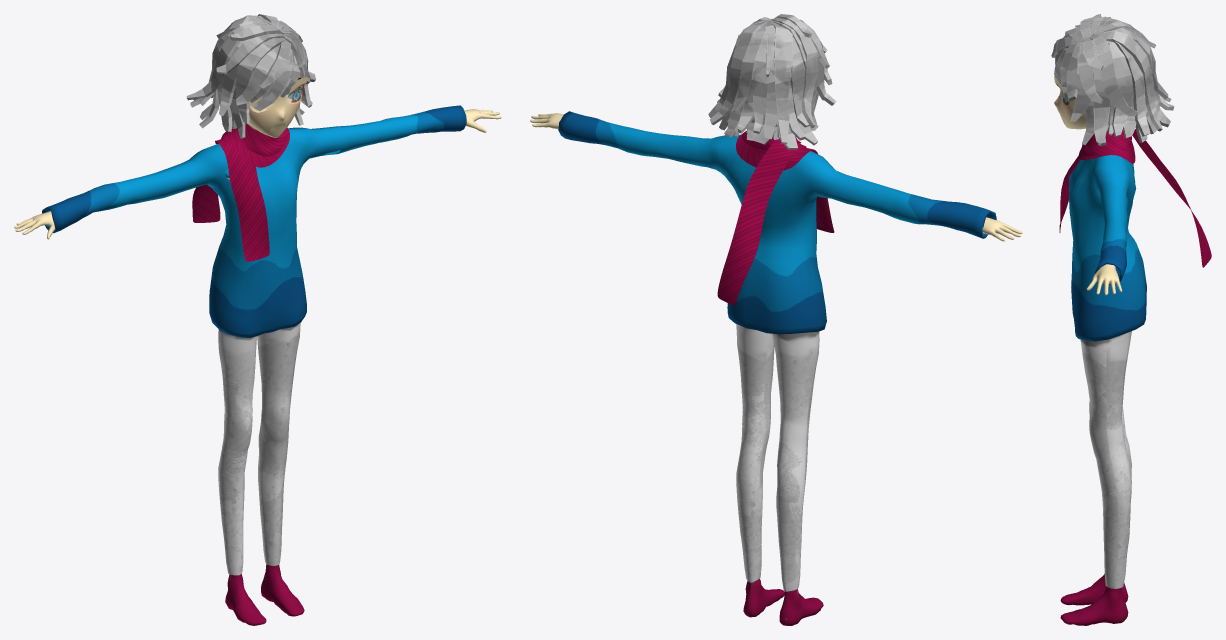
File: Girl2.glb
3 renders of one model, left to right at view 1: azimuth 30°, elevation 25°; view 2: azimuth 150°, elevation 25°; view 3: azimuth 270°, elevation 25°, orthographic.
Visible parts, largest first — view 1: Head_Hair001_baked_005_Head; view 2: Head_Hair001_baked_005_Head; view 3: Head_Hair001_baked_005_Head.
Boxes of the visible parts, x1,y1,x2,y2 form: Head_Hair001_baked_005_Head: (14, 14, 501, 625); Head_Hair001_baked_005_Head: (530, 14, 1022, 625); Head_Hair001_baked_005_Head: (1051, 14, 1211, 625).
Bounding box in the file's own units: 1.39 × 1.61 × 0.3962.
9 materials, 9 textured.
